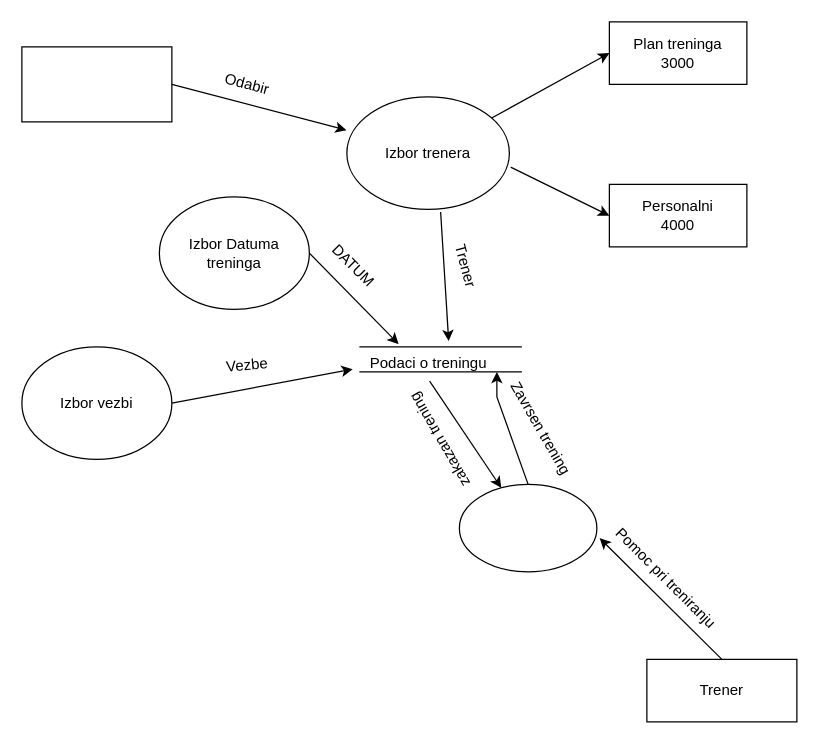
Some shapes in this 819 by 744 pixel diagram are drawn without their labels. The centre of each missing label's shape, as x and y in pixels:
Izvrsenje treninga: the point at 527,527
KLIJENT: the point at 96,84
